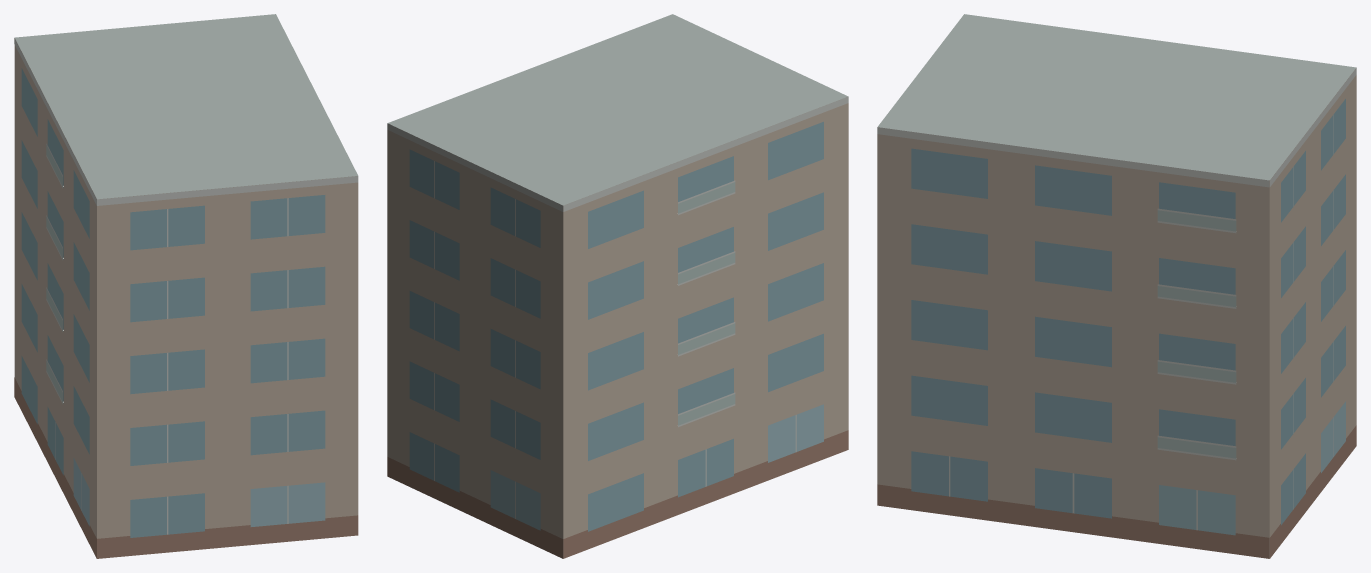
File: survey-upis-32794848.glb
3 views of the same model, side by side, from view 1: azimuth 30°, elevation 25°; view 2: azimuth 150°, elevation 25°; view 3: azimuth 270°, elevation 25° (orthographic). The views are drawn at different scales.
Visible parts, largest first — view 1: survey-upis-32794848.tmp; view 2: survey-upis-32794848.tmp; view 3: survey-upis-32794848.tmp.
Boxes of the visible parts, x1,y1,x2,y2 form: survey-upis-32794848.tmp: (14,14,358,558); survey-upis-32794848.tmp: (387,14,848,558); survey-upis-32794848.tmp: (877,14,1356,558).
Size of the model in its own units: 12.46 by 13.2 by 15.16.
